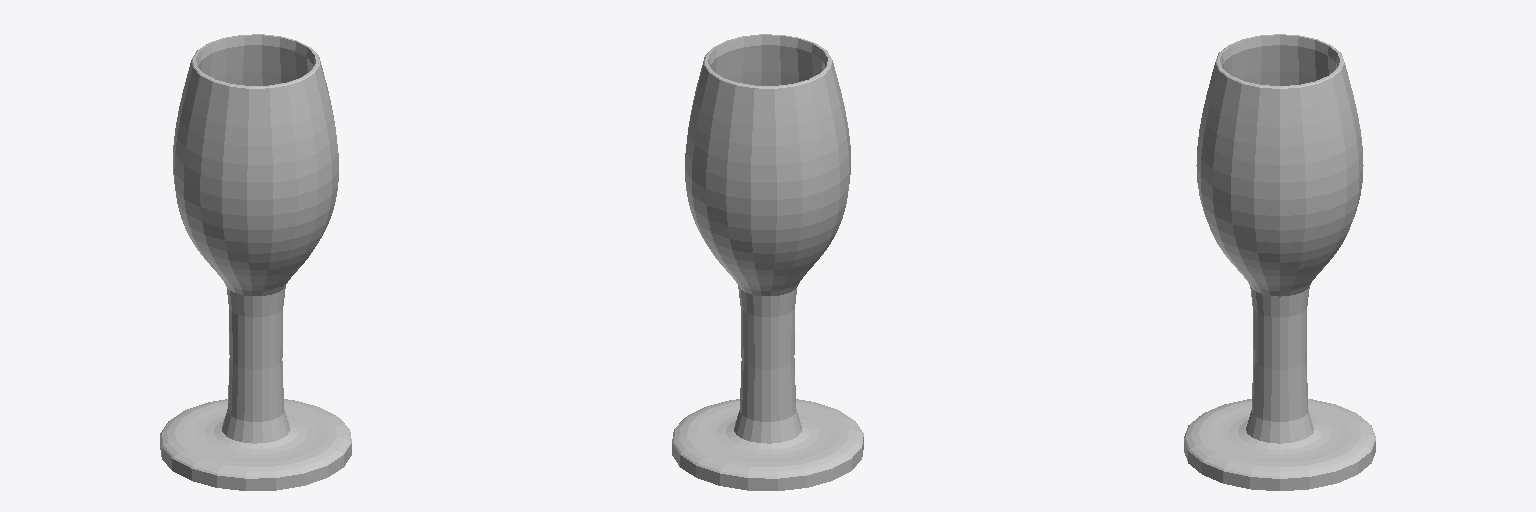
File: Glass.obj
The picture shows the model from 3 angles: view 1: azimuth 30°, elevation 25°; view 2: azimuth 150°, elevation 25°; view 3: azimuth 270°, elevation 25°; orthographic projection.
Parts seen in each view (by area): view 1: Cup; view 2: Cup; view 3: Cup.
Boxes of the visible parts, x1,y1,x2,y2 form: Cup: [160, 34, 351, 490]; Cup: [672, 34, 863, 490]; Cup: [1184, 34, 1375, 490].
Bounding box in the file's own units: 0.261 × 0.5832 × 0.2606.